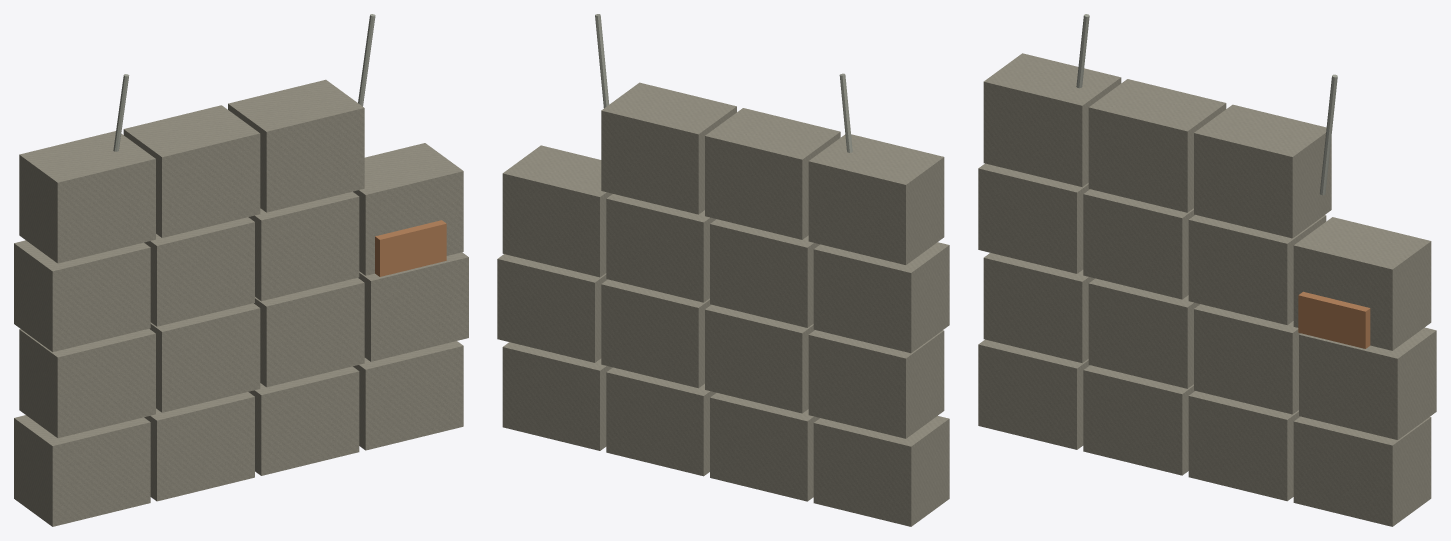
File: broken-masonry-wall.glb
3 renders of one model, left to right at view 1: azimuth 30°, elevation 25°; view 2: azimuth 150°, elevation 25°; view 3: azimuth 330°, elevation 25°, orthographic.
Parts seen in each view (by area): view 1: stone, accent, metal; view 2: stone, metal; view 3: stone, accent, metal.
Part boxes in pixels (box(x1,y1,x2,y2)): stone: box(14, 79, 468, 526); accent: box(375, 220, 446, 276); metal: box(113, 14, 375, 151); stone: box(497, 82, 949, 526); metal: box(595, 14, 852, 152); stone: box(978, 53, 1436, 526); accent: box(1298, 291, 1370, 348); metal: box(1076, 14, 1337, 195).
Bounding box in the file's own units: 2 × 1.91 × 0.36.
3 materials, 1 textured.
